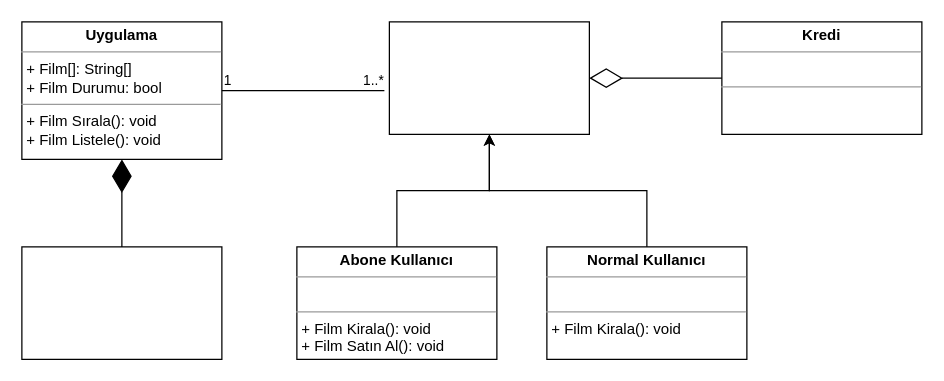
Some shapes in this 944 by 381 pixel diagram are drawn without their labels. The shapes that lost their labels are listed below. From the top down, each one's centre as x and y in pixels, then its label:
the point at 488,77: Kullanıcı + Kimlik: int + Film Talebi(): bool + Kredi Al(Kredi): void
the point at 121,302: Film
